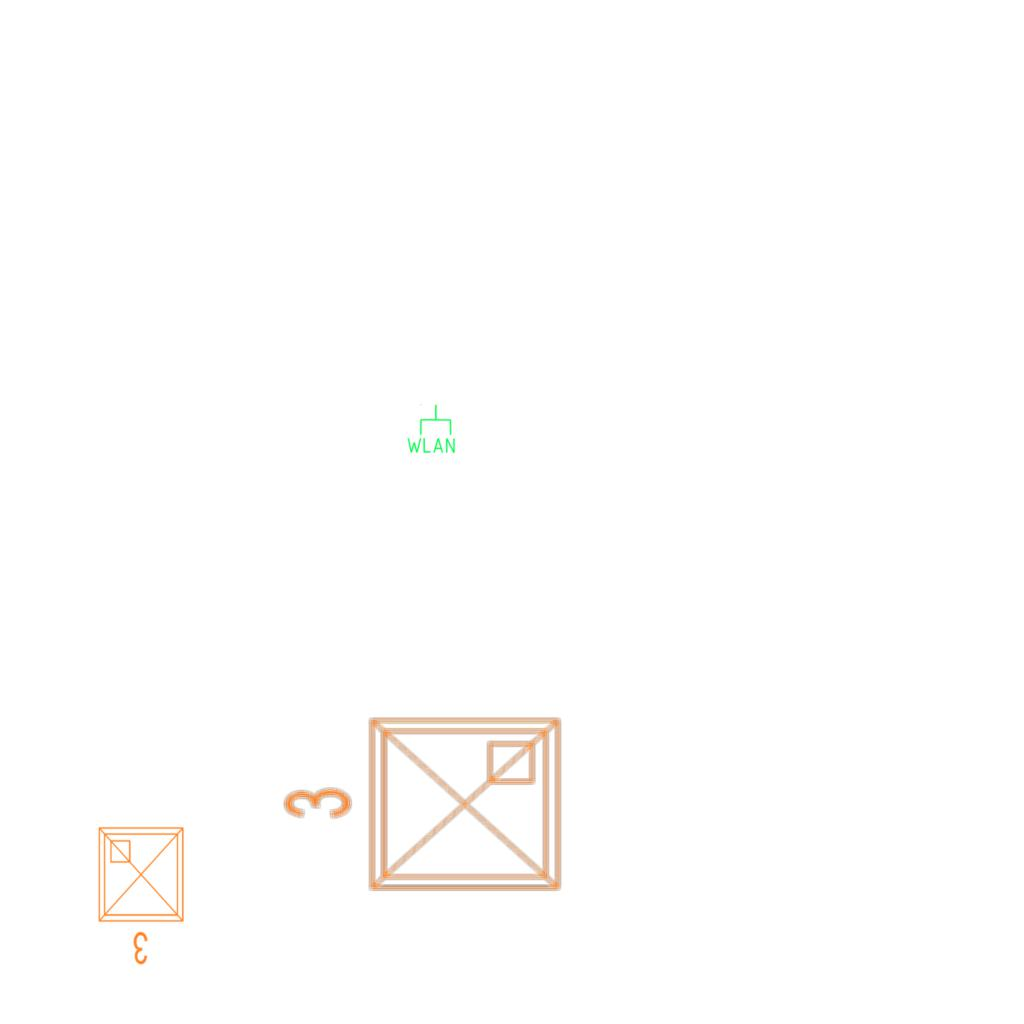Einbaudownlights_LED_Konferenzraeume: (274, 704, 574, 912), (91, 820, 195, 970)
WLAN: (405, 403, 457, 455)
